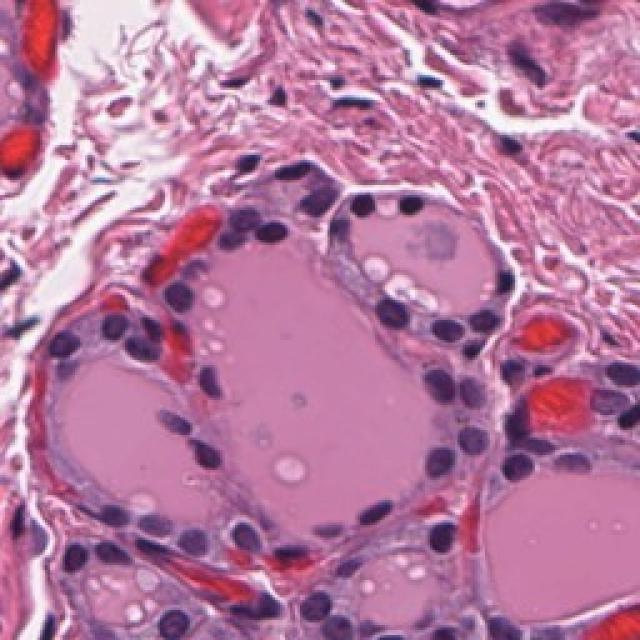normal: (276, 560, 361, 640), (477, 435, 553, 504), (392, 508, 464, 569), (30, 308, 85, 384), (118, 493, 190, 551), (153, 251, 211, 320), (422, 293, 480, 361), (357, 274, 412, 339), (448, 414, 499, 477), (414, 434, 463, 499), (222, 512, 272, 573), (363, 487, 405, 556), (249, 197, 297, 256), (174, 517, 220, 578), (419, 359, 464, 412), (84, 530, 120, 590)
